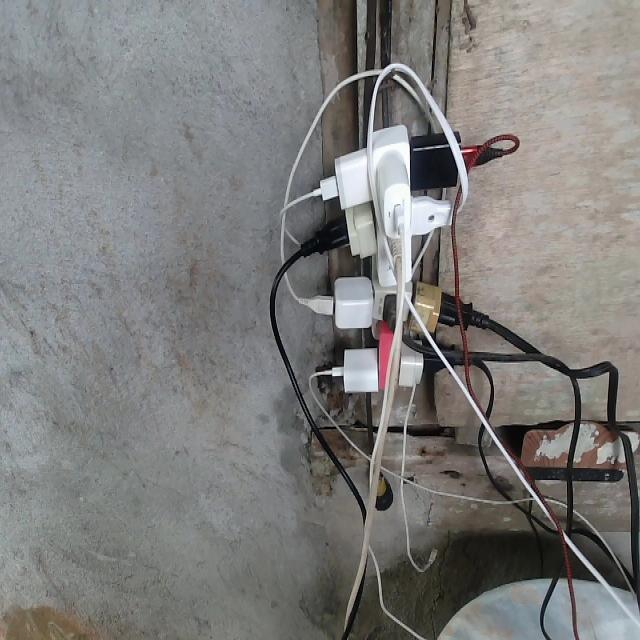-: (299, 125, 508, 392)
